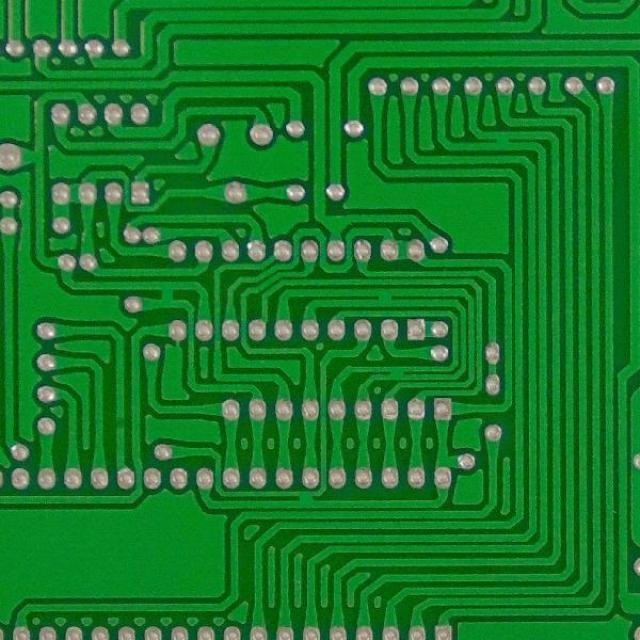Short_Circuit: (150, 278, 182, 314), (482, 126, 514, 154), (289, 484, 320, 512), (370, 284, 400, 310), (380, 363, 410, 383)
